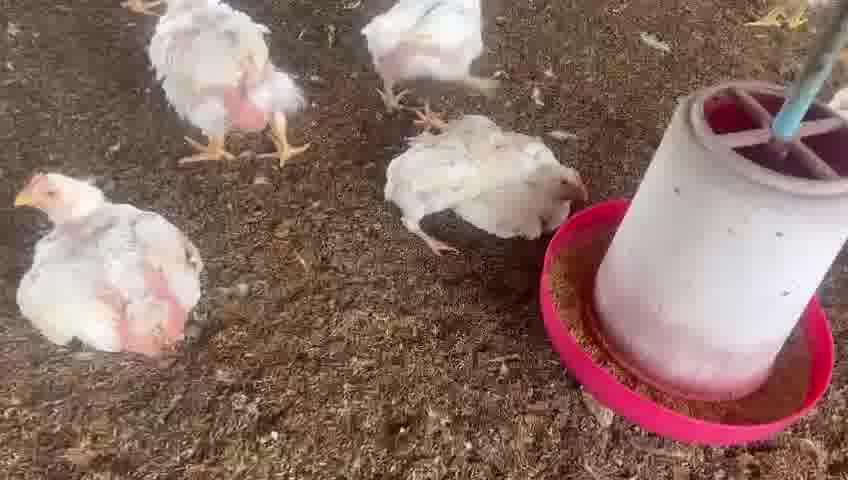AbNormal: (415, 81, 584, 230)
Normal: (3, 159, 200, 360), (143, 0, 308, 172), (349, 0, 489, 98)
